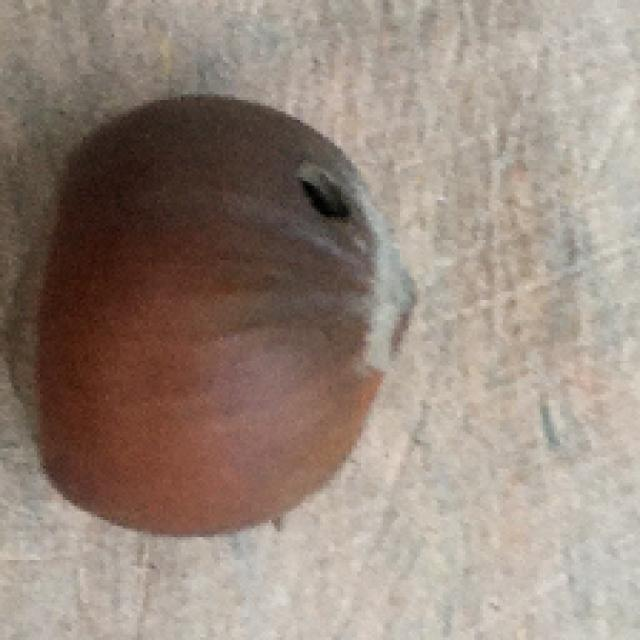damagedHazelnut: (11, 88, 417, 526)
